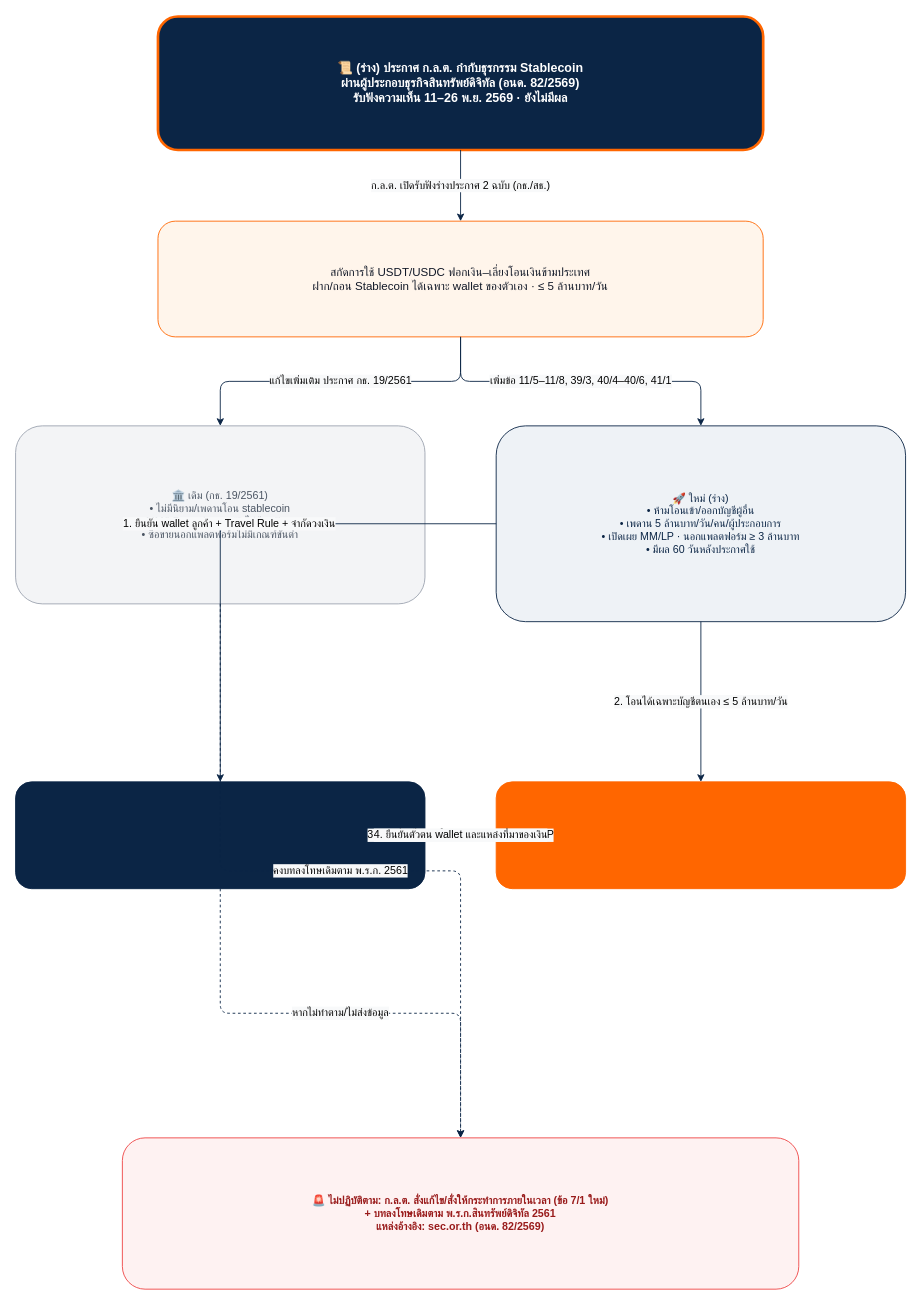
The diagram is 921 pixels wide and 1305 high, and some of its shapes have lost their labels. The centre of each missing label's shape, as x and y in pixels:
🏢 Exchange / Broker / Dealer สินทรัพย์ดิจิทัล: [220,835]
👤 นักลงทุนคริปโท / ผู้ใช้ Stablecoin: [700,835]
